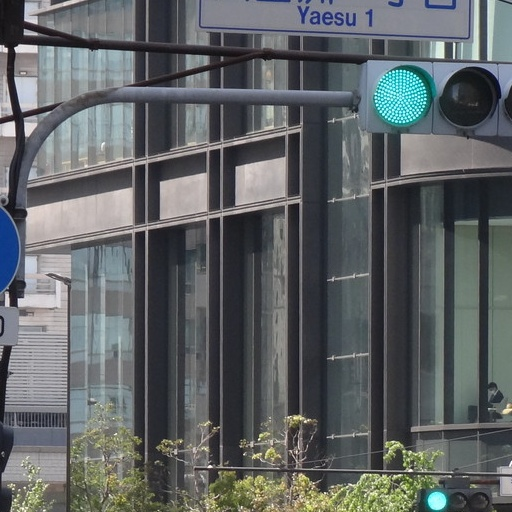Traffic_Signal_Blue: (357, 52, 504, 136)
